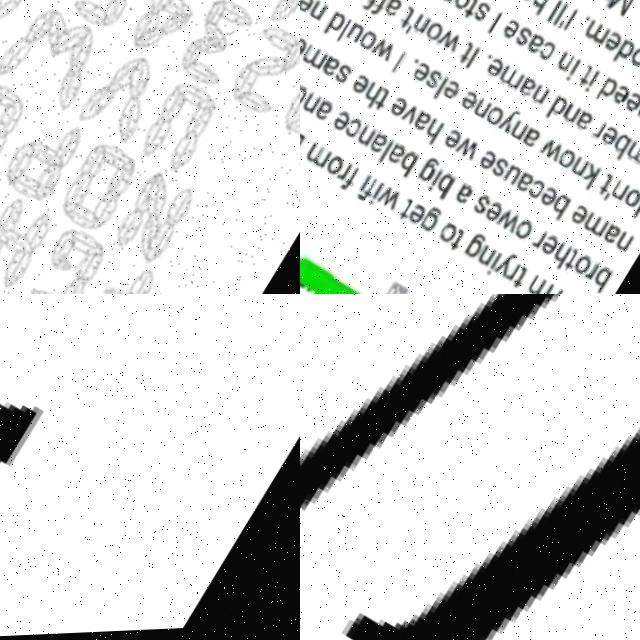1: (0, 294, 225, 595), (268, 52, 300, 149)
2: (220, 24, 300, 127)
3: (168, 0, 261, 101)
4: (111, 0, 214, 74)
5: (57, 0, 154, 39)
A: (597, 225, 621, 251), (508, 172, 532, 198), (569, 111, 593, 137), (449, 184, 473, 209), (309, 98, 333, 123), (516, 128, 540, 153), (381, 142, 404, 168), (365, 132, 388, 157), (408, 110, 431, 135), (317, 55, 340, 80), (522, 34, 544, 59), (514, 78, 535, 102), (379, 0, 402, 20)
B: (426, 171, 455, 204), (604, 134, 632, 165), (543, 194, 570, 226), (390, 151, 417, 181), (583, 266, 611, 294), (523, 0, 550, 19)
C: (522, 179, 545, 205), (339, 117, 362, 142), (533, 42, 556, 66)
D: (540, 95, 568, 128), (592, 78, 619, 109), (608, 40, 635, 70), (320, 11, 345, 40), (627, 196, 640, 229), (300, 83, 307, 114)
E: (607, 85, 632, 112), (564, 204, 588, 231), (478, 201, 502, 227), (438, 128, 462, 154), (455, 90, 479, 116), (482, 57, 506, 83), (473, 150, 497, 175), (497, 19, 521, 44), (534, 187, 558, 212), (327, 109, 350, 135), (385, 96, 408, 122), (437, 80, 460, 106), (408, 61, 431, 87), (595, 127, 618, 153), (534, 236, 558, 260), (346, 74, 369, 99), (599, 34, 621, 59), (403, 204, 425, 227), (619, 93, 640, 117), (300, 0, 314, 16), (300, 35, 307, 59), (514, 0, 537, 6)
F: (334, 165, 358, 195), (356, 179, 377, 206), (367, 0, 388, 18), (359, 0, 380, 14)
G: (414, 204, 442, 237), (458, 232, 485, 263), (413, 156, 440, 187)
H: (356, 80, 383, 112), (417, 119, 443, 149), (544, 244, 568, 273)
I: (350, 176, 370, 201), (363, 183, 382, 209), (562, 62, 581, 85), (481, 254, 499, 278), (423, 171, 441, 195), (387, 52, 405, 76), (483, 15, 501, 39), (461, 49, 479, 72), (560, 11, 577, 34), (582, 74, 597, 95)
K: (573, 163, 601, 195)
L: (374, 142, 392, 165), (428, 79, 446, 102), (332, 21, 350, 44), (550, 5, 567, 29), (545, 3, 560, 24)
M: (577, 212, 607, 242), (493, 66, 523, 95), (301, 142, 329, 170), (581, 23, 609, 51), (300, 43, 327, 72), (602, 0, 634, 21), (620, 142, 640, 172), (521, 275, 551, 294)
N: (351, 124, 375, 150), (525, 86, 549, 111), (503, 122, 527, 146), (605, 182, 628, 207), (565, 159, 588, 184), (407, 13, 430, 38), (467, 98, 490, 123), (304, 0, 327, 24), (471, 247, 493, 271), (557, 105, 579, 128), (611, 233, 632, 257), (552, 53, 573, 76), (300, 91, 318, 115), (632, 102, 640, 125)
O: (508, 220, 532, 246), (552, 149, 576, 175), (480, 106, 504, 132), (420, 21, 444, 47), (568, 255, 591, 281), (353, 30, 376, 56), (432, 222, 455, 248), (320, 154, 343, 180), (618, 190, 640, 213), (625, 48, 640, 73), (448, 0, 472, 15)
P: (434, 0, 461, 6)
R: (500, 264, 518, 286), (579, 264, 597, 286), (332, 162, 350, 183), (527, 232, 545, 253), (588, 124, 604, 143)
S: (467, 194, 491, 219), (329, 62, 353, 87), (509, 27, 533, 52), (419, 69, 442, 94), (468, 2, 491, 27), (486, 157, 507, 181)
T: (368, 88, 392, 116), (442, 230, 464, 256), (395, 7, 416, 33), (506, 268, 526, 293), (558, 252, 578, 277), (593, 176, 613, 200), (574, 67, 594, 90), (393, 200, 412, 224), (455, 45, 474, 68), (459, 0, 478, 22)
U: (300, 294, 640, 640), (497, 165, 521, 190), (342, 22, 364, 46)
V: (395, 102, 419, 127)
W: (534, 138, 564, 167), (490, 209, 520, 238), (365, 37, 394, 66), (432, 29, 461, 58), (450, 135, 479, 164), (373, 186, 400, 212)
Y: (494, 107, 520, 138), (490, 252, 515, 280)
